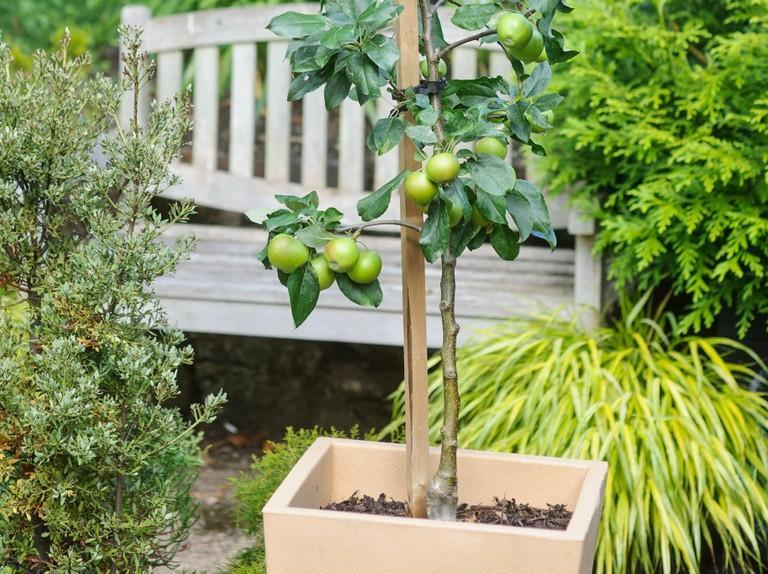apple: (267, 234, 310, 272), (494, 12, 533, 50), (324, 235, 360, 271), (405, 170, 439, 206), (512, 29, 546, 63), (349, 250, 383, 284), (425, 152, 461, 183), (309, 253, 337, 291), (473, 136, 508, 158)
